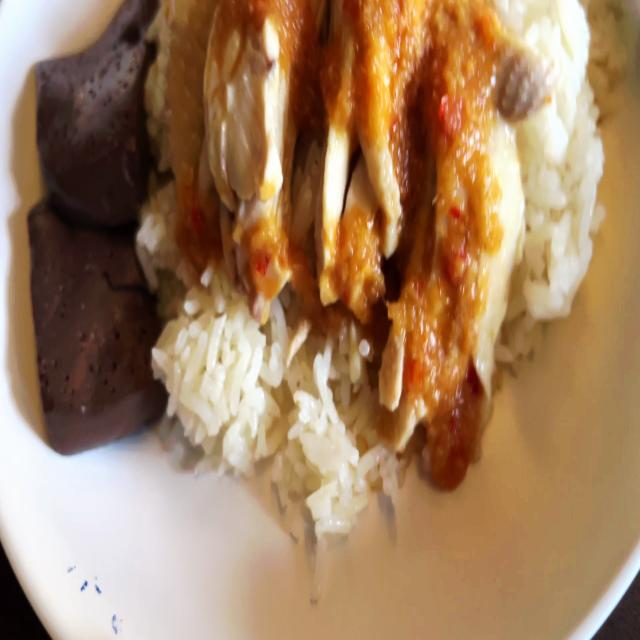boiled_chicken: (163, 0, 544, 454)
boiled_chicken_blood_jelly: (29, 183, 157, 438), (21, 0, 155, 223)
chicken_rice: (18, 0, 640, 570)
